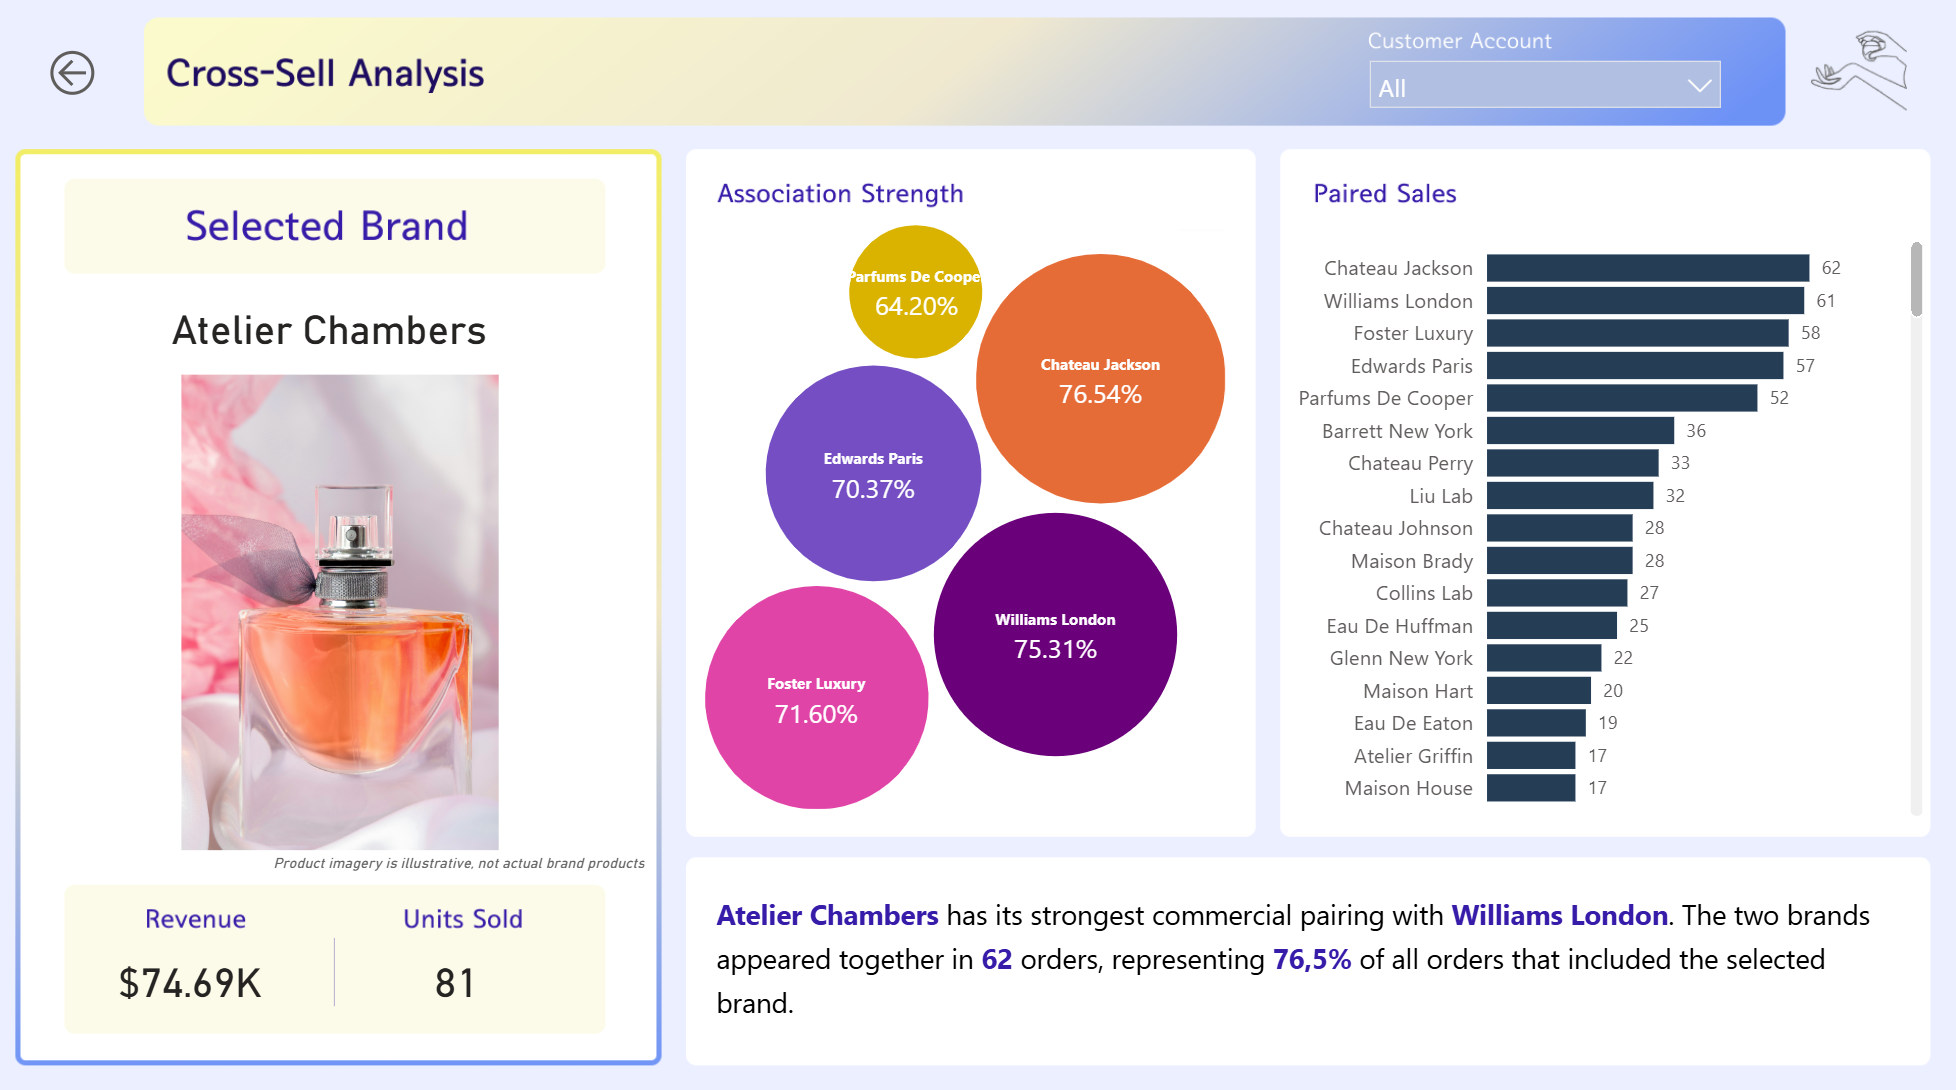

Layout of this report page (visuals, bound fields, positions):
{"tool":"powerbi","page":{"name":"Cross-Sell Analysis","canvas":[1280,720],"ordinal":9},"visuals":[{"type":"bubbleChartEEDCDFA388784AEEAB47972BC1626196","fields":{"category":["aux_brand_crosssell.brand"],"secondLabel":["_Measures.Attach Rate %"],"measure":["_Measures.Paired Orders"]},"box":[452.9,120.1,366.6,455],"z":0,"group":"g1"},{"type":"clusteredBarChart","title":"Vendas Casadas","fields":{"Category":["aux_brand_crosssell.brand"],"Y":["_Medidas.Pedidos Casados"]},"box":[824.8,148.5,437.8,393.5],"z":0},{"type":"shape","box":[706,125.1,115.5,29.1],"z":1000,"group":"g1"},{"type":"cardVisual","fields":{"Data":["_Medidas.Marca Selecionada"]},"box":[51.3,182.1,332.1,68],"z":1000},{"type":"cardVisual","fields":{"Data":["_Medidas.Fat Liq Total"]},"box":[26,606.5,199.9,71.2],"z":2000},{"type":"cardVisual","fields":{"Data":["_Medidas.Qtd Pedidos V"]},"box":[217.7,606.5,165.6,71.2],"z":3000},{"type":"image","box":[26.2,243.9,395.4,321],"z":4000},{"type":"slicer","fields":{"Values":["dim_cust.cust_group"]},"box":[886.7,34.5,249.5,42.2],"z":5000},{"type":"htmlContent443BE3AD55E043BF878BED274D3A6855","fields":{"content":["_Medidas.Storytelling CrossSell HTML"]},"box":[464.1,581.8,789.9,127.3],"z":6000},{"type":"actionButton","box":[29.4,32,48.6,39.7],"z":7000},{"type":"cardVisual","fields":{"Data":["_Measures.Image Disclaimer"]},"box":[164,547,279.7,35.8],"z":9000},{"type":"group","id":"g1","title":"Group 2","box":[452.9,120.1,368.6,455],"z":12002}]}

Visuals, with their boxes in screenshot pixels (x1, y1, x2, y2), scaled from the page's 1280x720 canvas onto the 1956x1090 screenshot:
bubbleChartEEDCDFA388784AEEAB47972BC1626196 - aux_brand_crosssell.brand x _Measures.Attach Rate %: [692,182,1252,871]
"Vendas Casadas" clusteredBarChart: [1260,225,1929,821]
shape: [1079,189,1255,233]
cardVisual - _Medidas.Marca Selecionada: [78,276,586,379]
cardVisual - _Medidas.Fat Liq Total: [40,918,345,1026]
cardVisual - _Medidas.Qtd Pedidos V: [333,918,586,1026]
image: [40,369,644,855]
slicer - dim_cust.cust_group: [1355,52,1736,116]
htmlContent443BE3AD55E043BF878BED274D3A6855 - _Medidas.Storytelling CrossSell HTML: [709,881,1916,1073]
actionButton: [45,48,119,109]
cardVisual - _Measures.Image Disclaimer: [251,828,678,882]
"Group 2" group: [692,182,1255,871]
